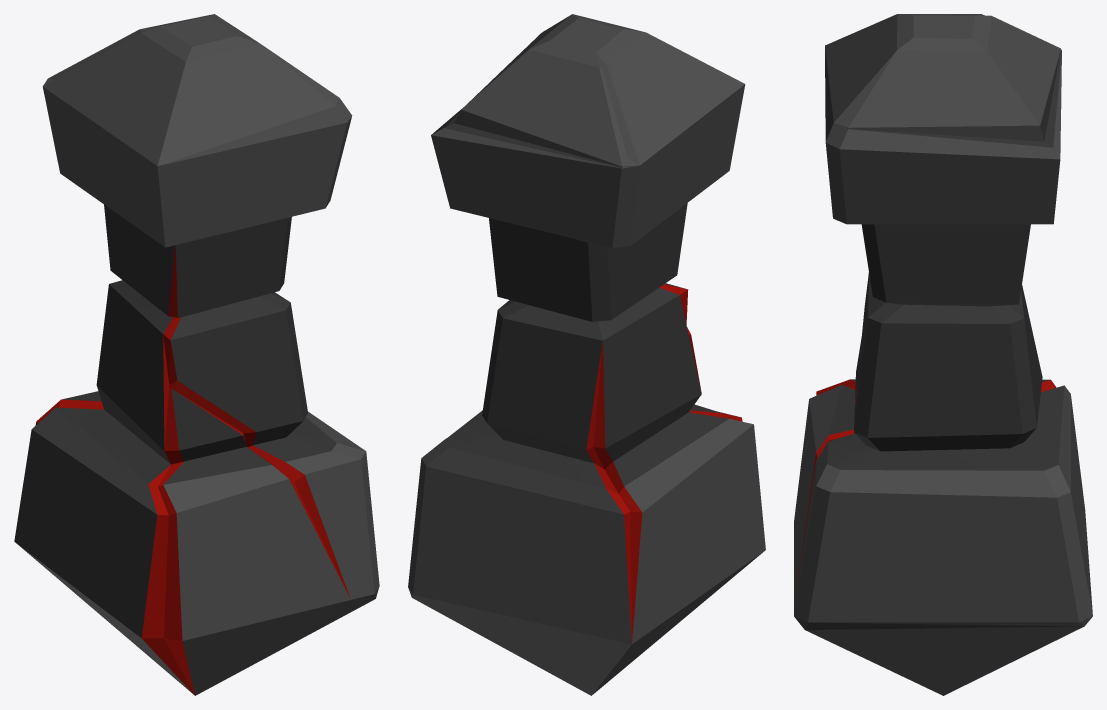
Rendered from Fence_Pillar_01.FBX.
3 views of the same model, side by side, from view 1: azimuth 30°, elevation 25°; view 2: azimuth 150°, elevation 25°; view 3: azimuth 270°, elevation 25° (orthographic).
Visible parts, largest first — view 1: Fence_Pillar_01; view 2: Fence_Pillar_01; view 3: Fence_Pillar_01.
Part boxes in pixels (x1,y1,x2,y2): Fence_Pillar_01: (14, 14, 379, 695); Fence_Pillar_01: (408, 14, 765, 695); Fence_Pillar_01: (794, 14, 1092, 695).
Size of the model in its own units: 19.51 by 53.39 by 21.53.
